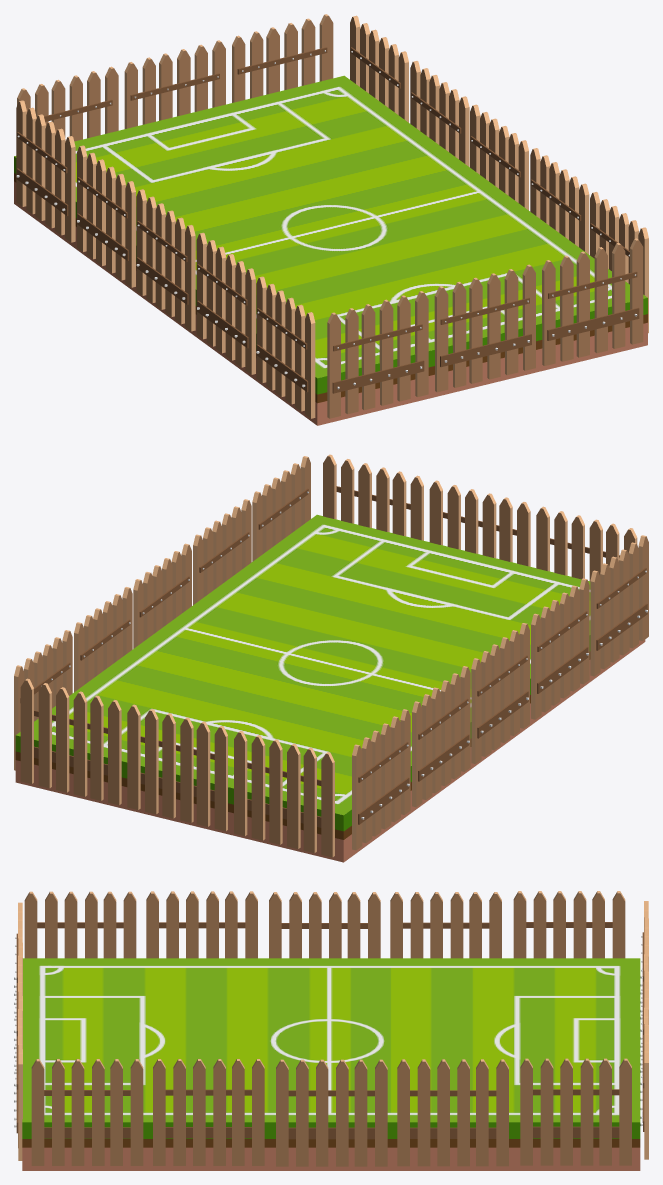
The model's file is field3.glb.
3 views of the same model, one above another, from view 1: azimuth 30°, elevation 25°; view 2: azimuth 150°, elevation 25°; view 3: azimuth 270°, elevation 25° (orthographic). The views are drawn at different scales.
Parts seen in each view (by area): view 1: Cube, Cube__0.010, Cube__0.011, Cube__0.012, Cube__0.007, Cube__0.009, Cube__0.008, Cube__0.005, Cube__0.006, Cube__0.015, Cube__0.014, Cube__0.013 (+5 smaller); view 2: Cube, Cube__0.015, Cube__0.014, Cube__0.013, Cube__0.008, Cube__0.005, Cube__0.006, Cube__0.009, Cube__0.007, Cube__0.010, Cube__0.012, Cube__0.011 (+5 smaller); view 3: Cube, Cube__0.004, Cube__0.002, Cube__0, Cube__0.001, Cube__0.003, Cube__0.007, Cube__0.009, Cube__0.006, Cube__0.008, Cube__0.005, Cube__0.012 (+5 smaller).
Boxes of the visible parts, x1,y1,x2,y2 form: Cube: (14, 75, 647, 425); Cube__0.010: (434, 264, 535, 392); Cube__0.011: (327, 291, 428, 418); Cube__0.012: (542, 238, 643, 365); Cube__0.007: (256, 276, 315, 418); Cube__0.009: (16, 100, 75, 242); Cube__0.008: (196, 232, 255, 374); Cube__0.005: (136, 189, 195, 331); Cube__0.006: (77, 145, 135, 287); Cube__0.015: (232, 14, 333, 102); Cube__0.014: (124, 40, 225, 128); Cube__0.013: (17, 66, 118, 141); Cube: (15, 514, 645, 862); Cube__0.015: (20, 678, 121, 805); Cube__0.014: (127, 704, 227, 831); Cube__0.013: (234, 731, 334, 857); Cube__0.008: (531, 578, 589, 719); Cube__0.005: (471, 623, 529, 763); Cube__0.006: (412, 666, 470, 807); Cube__0.009: (352, 709, 410, 850); Cube__0.007: (590, 535, 648, 676); Cube__0.010: (429, 480, 530, 566); Cube__0.012: (323, 454, 423, 540); Cube__0.011: (536, 506, 637, 581); Cube: (22, 958, 640, 1170); Cube__0.004: (520, 1058, 631, 1165); Cube__0.002: (31, 1059, 143, 1165); Cube__0: (276, 1059, 387, 1166); Cube__0.001: (397, 1059, 508, 1166); Cube__0.003: (153, 1059, 264, 1165); Cube__0.007: (24, 891, 136, 958); Cube__0.009: (513, 891, 625, 958); Cube__0.006: (390, 892, 501, 958); Cube__0.008: (146, 891, 257, 958); Cube__0.005: (269, 892, 380, 958); Cube__0.012: (14, 1009, 22, 1160).
Bounding box in the file's own units: 278 × 85.44 × 435.
Materials: 6 (3 with a texture image).
